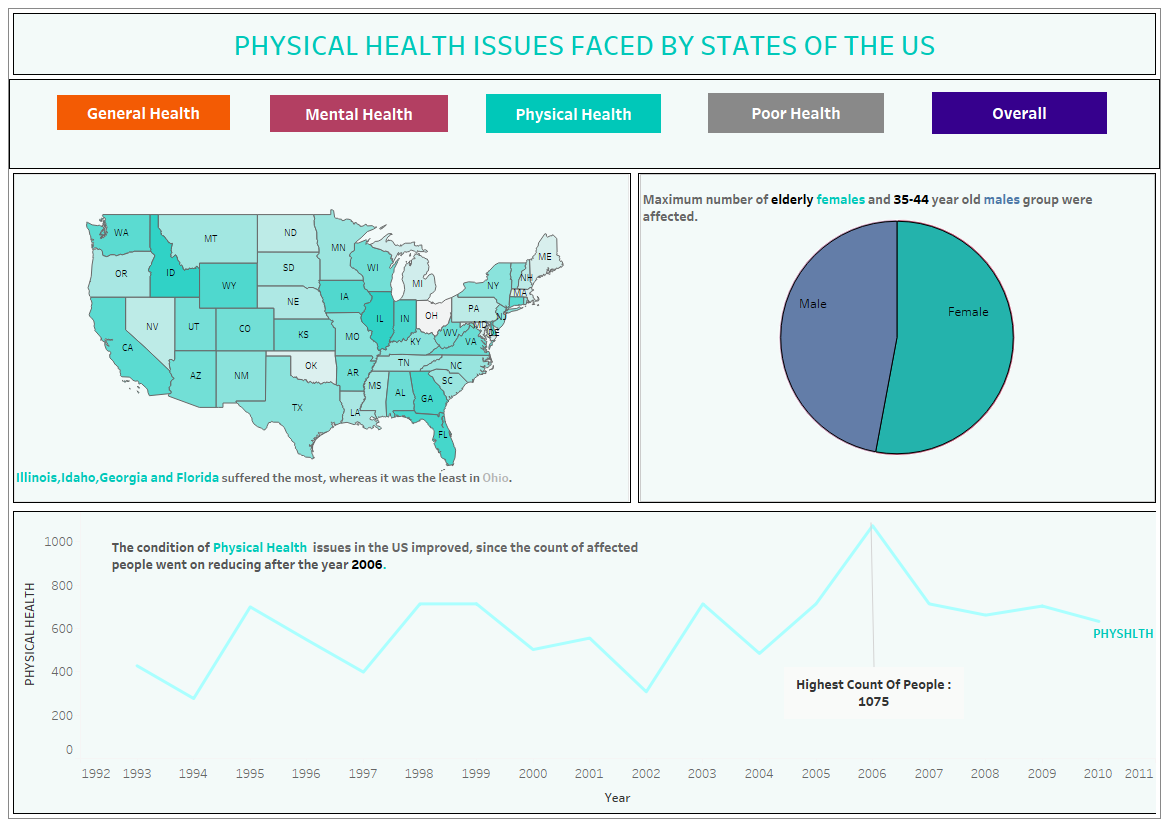

The page's visual inventory and layout, read from the dashboard file:
{"tool":"tableau","page":{"name":"PHYS Dash story","canvas":[1169,827],"ordinal":11},"visuals":[{"type":"text","box":[9,9,1151,70]},{"type":"dashboard-object","box":[932,92,175,42]},{"type":"dashboard-object","box":[708,93,176,40]},{"type":"dashboard-object","box":[486,94,175,39]},{"type":"dashboard-object","box":[57,95,173,35]},{"type":"dashboard-object","box":[270,95,178,37]},{"type":"worksheet","title":"Physical HLTH Map","mark":"Automatic","box":[9,169,625.5,338]},{"type":"worksheet","title":"PiePhyHlth","mark":"Pie","cols":["Calculation_1440588931308781577","Calculation_1440588931309305867"],"box":[634.5,169,525.5,338]},{"type":"text","box":[640,178,509,59]},{"type":"text","box":[13,454,617,45]},{"type":"worksheet","title":"PHYSHLTH","mark":"Automatic","rows":["Calculation_2714263200890437632"],"cols":["Year"],"box":[9,507,1151,311]},{"type":"text","box":[109,523,572,65]}]}

Visuals, with their boxes in screenshot pixels (x1, y1, x2, y2), scaled from the page's 1169x827 canvas onto the 1169x827 screenshot:
text: (x1=9, y1=9, x2=1160, y2=79)
dashboard-object: (x1=932, y1=92, x2=1107, y2=134)
dashboard-object: (x1=708, y1=93, x2=884, y2=133)
dashboard-object: (x1=486, y1=94, x2=661, y2=133)
dashboard-object: (x1=57, y1=95, x2=230, y2=130)
dashboard-object: (x1=270, y1=95, x2=448, y2=132)
"Physical HLTH Map" worksheet: (x1=9, y1=169, x2=634, y2=507)
"PiePhyHlth" worksheet (Pie marks): (x1=634, y1=169, x2=1160, y2=507)
text: (x1=640, y1=178, x2=1149, y2=237)
text: (x1=13, y1=454, x2=630, y2=499)
"PHYSHLTH" worksheet: (x1=9, y1=507, x2=1160, y2=818)
text: (x1=109, y1=523, x2=681, y2=588)
